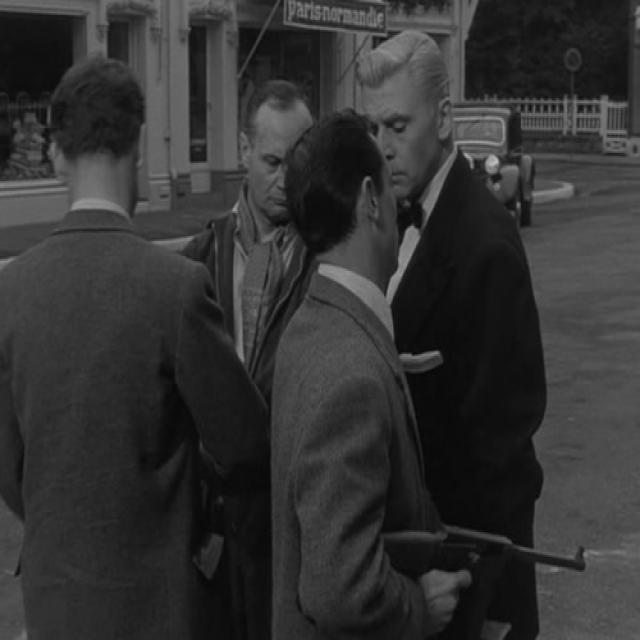rifle: (371, 526, 603, 575)
